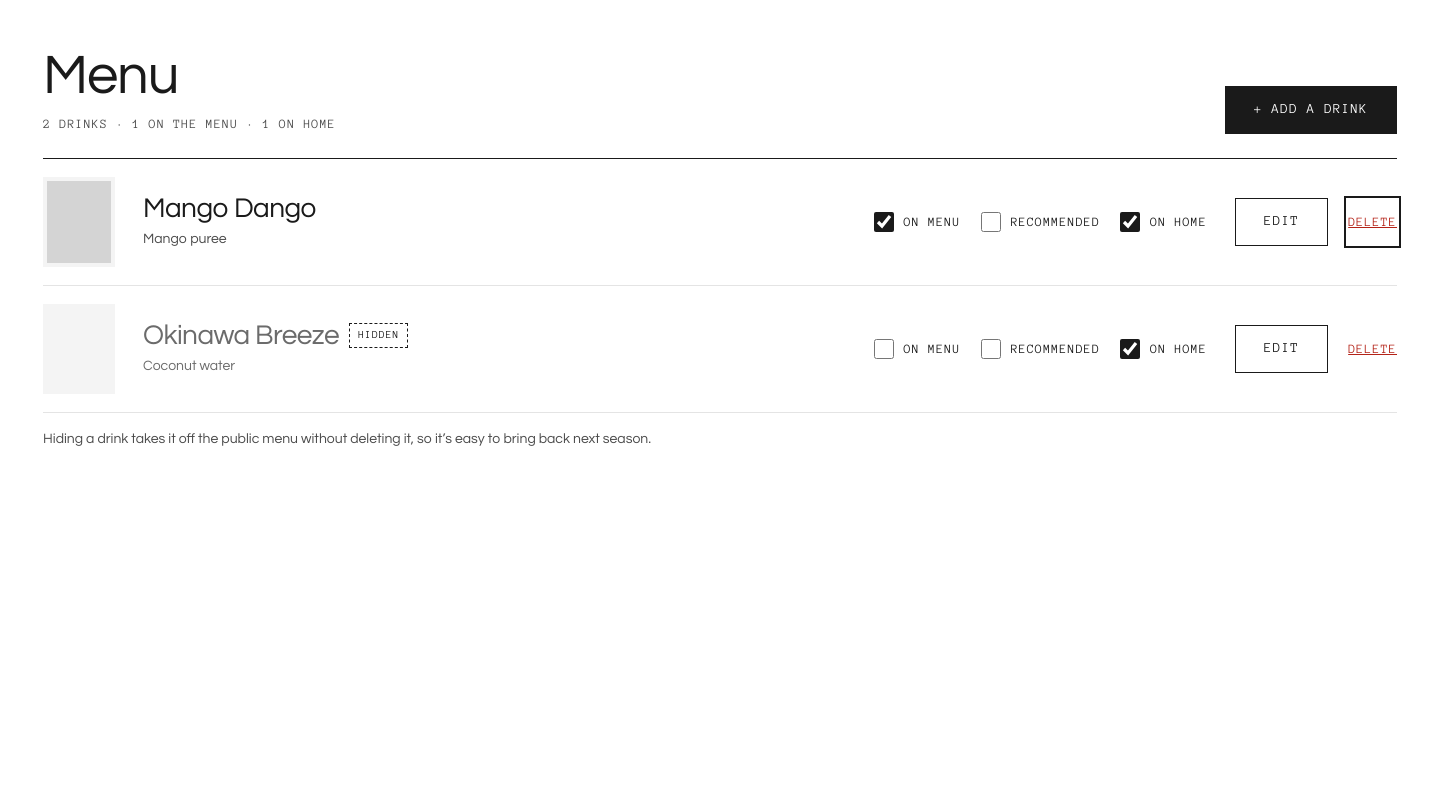
Test: dialog is labelled, takes focus, and Escape closes it and returns focus
Click the button named "Delete Mango Dango" at (1373, 222), box x1=1348 y1=200 x2=1397 y2=244
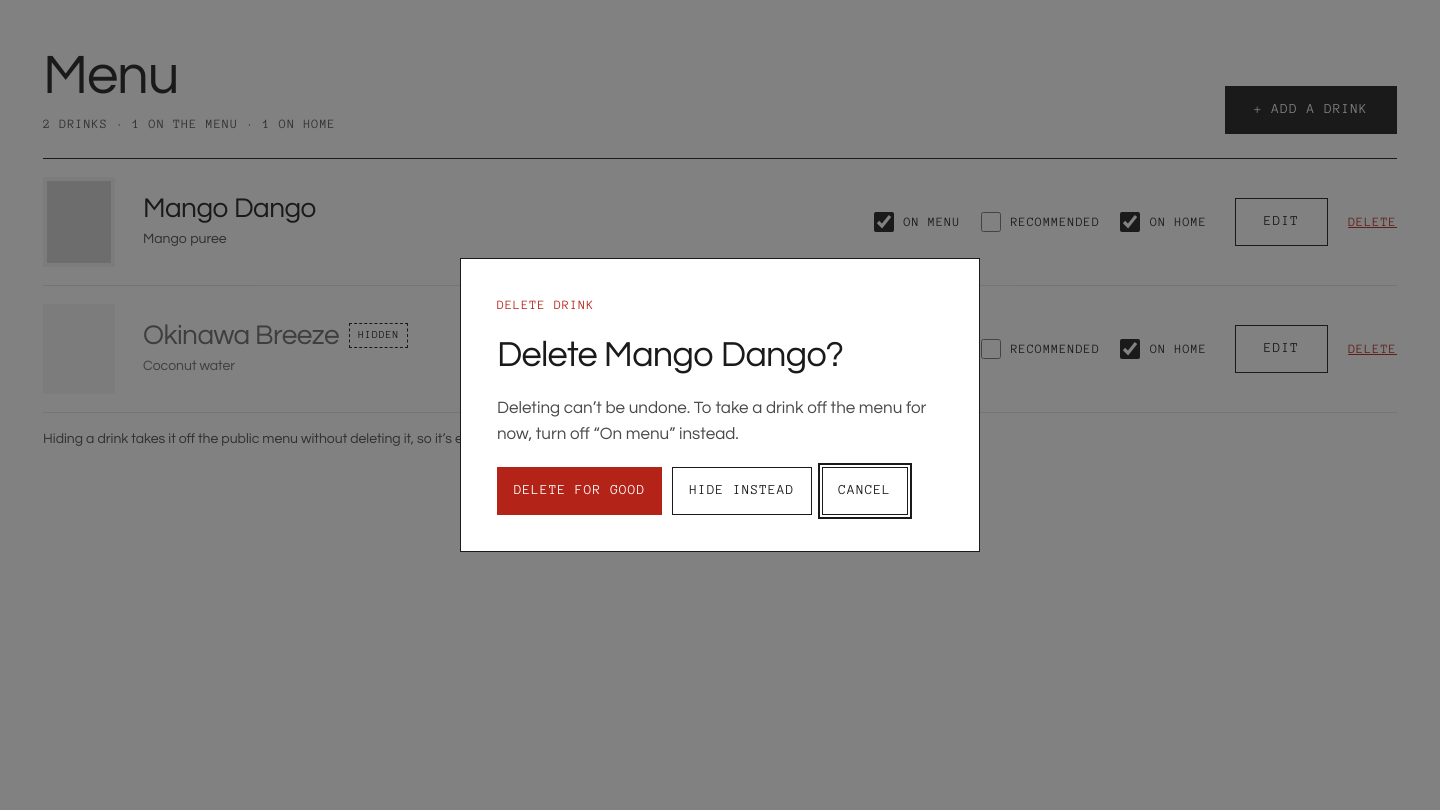
Press Escape
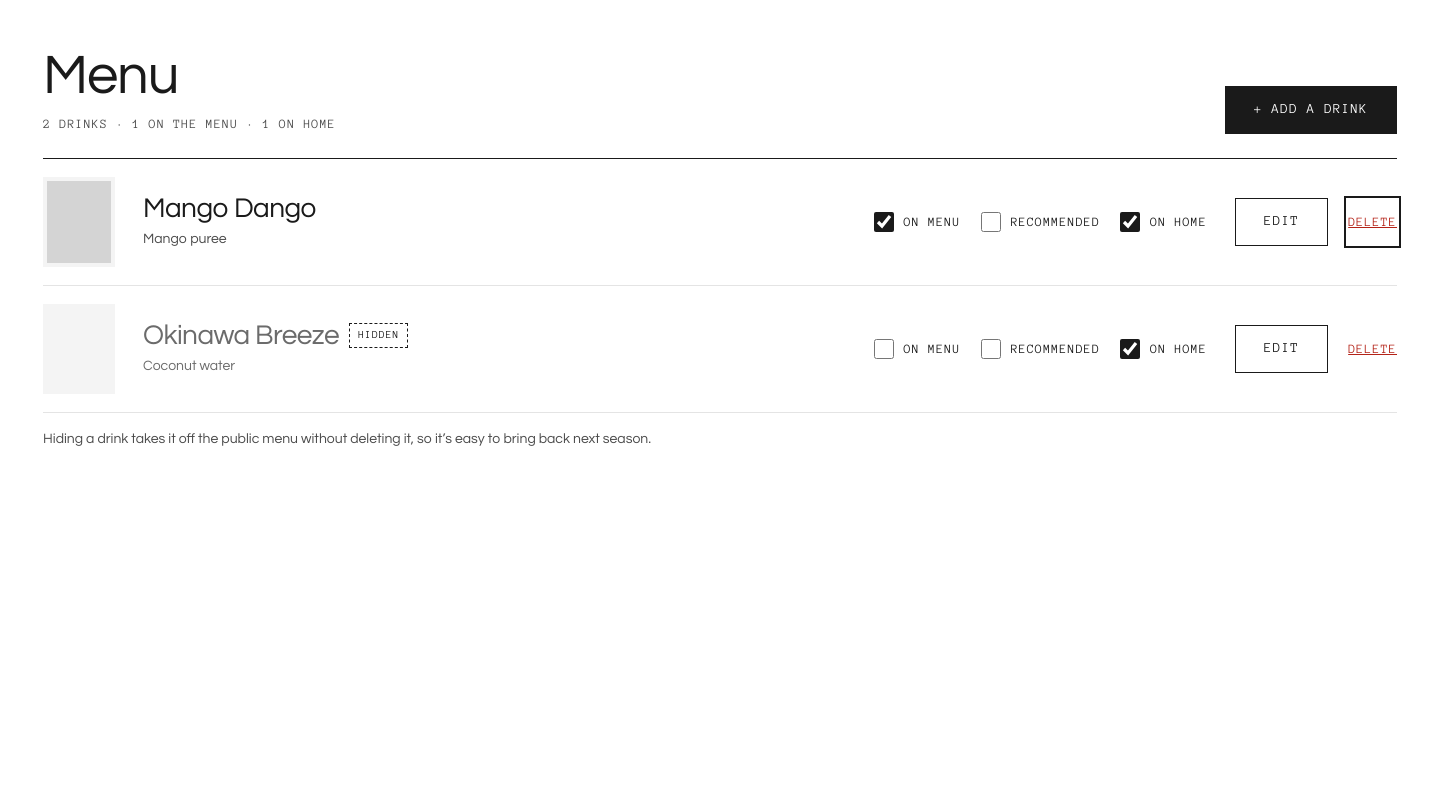
Expected: the dialog is gone
